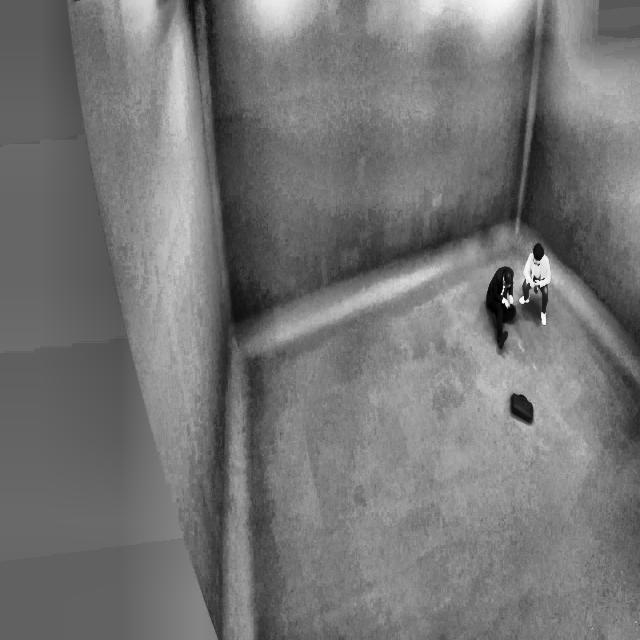assult: (484, 242, 558, 356)
